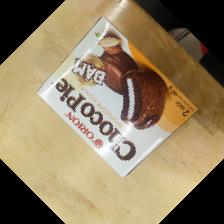Chocopie_cacao: (35, 16, 200, 179)
